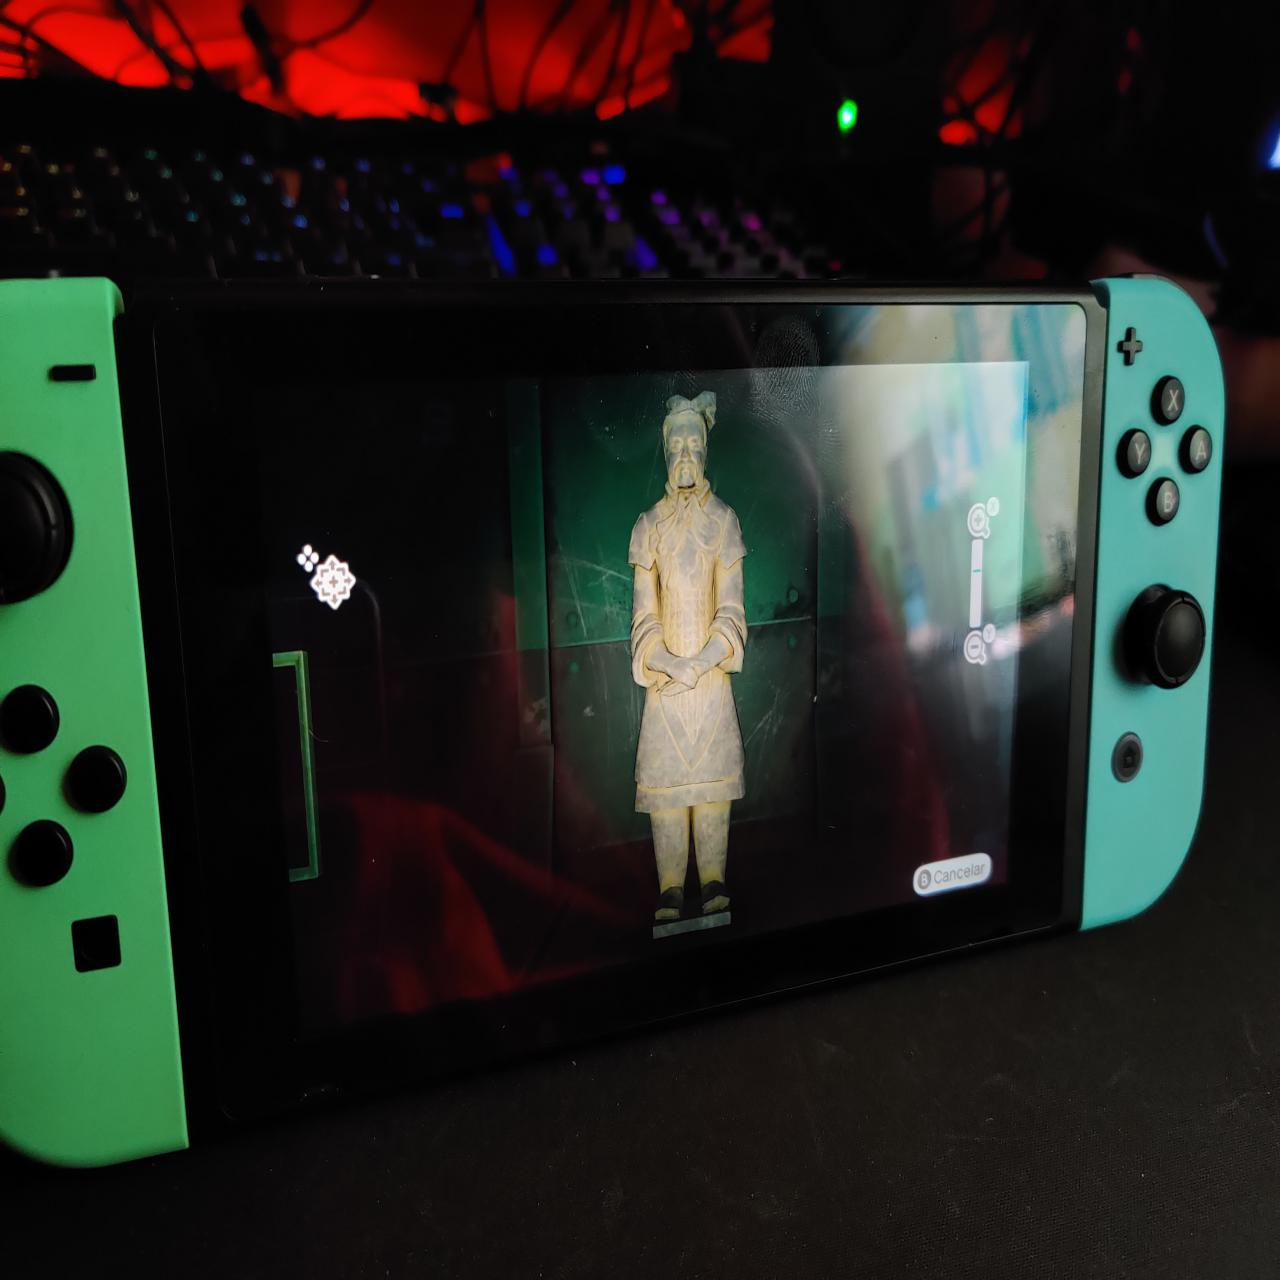Heibayo: (625, 384, 753, 937)
